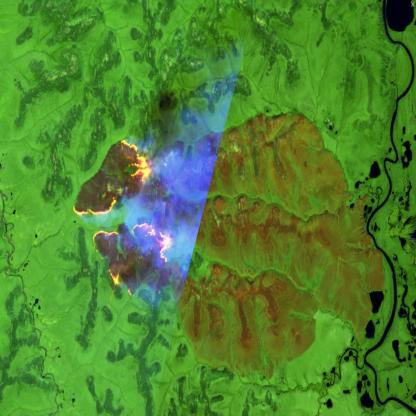fire: (71, 137, 175, 301)
